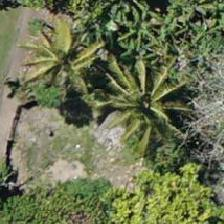coconut_tree: (97, 52, 187, 142), (17, 10, 107, 100)
